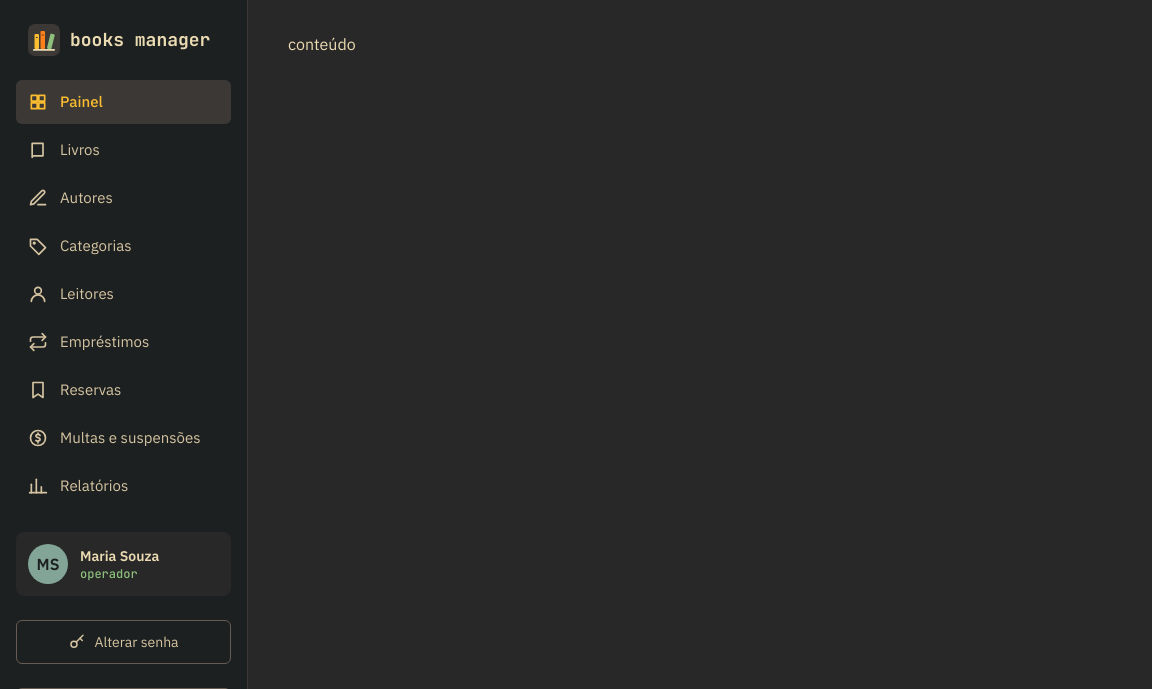
Test: layout da equipe: alterar a própria senha › fechar o diálogo volta à tela, sem sair da sessão
Click the button "Alterar senha". click: (124, 642)
box: [16,620,231,664]
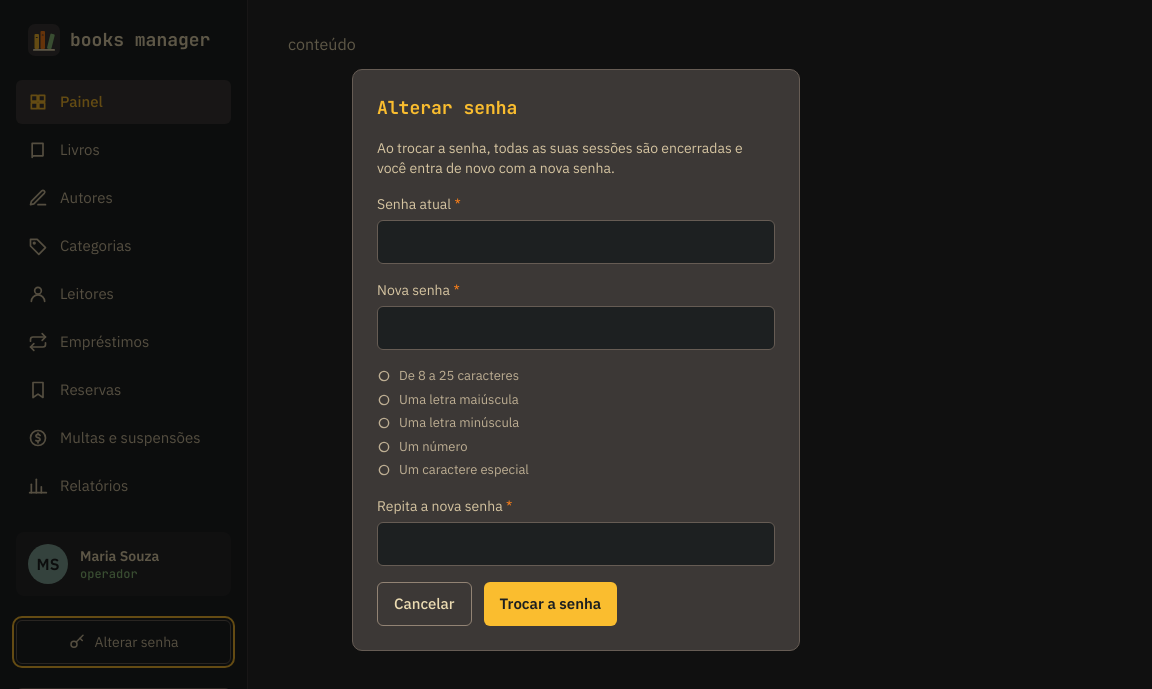
Click the button "Cancelar". click: (424, 604)
box: [377,582,472,626]
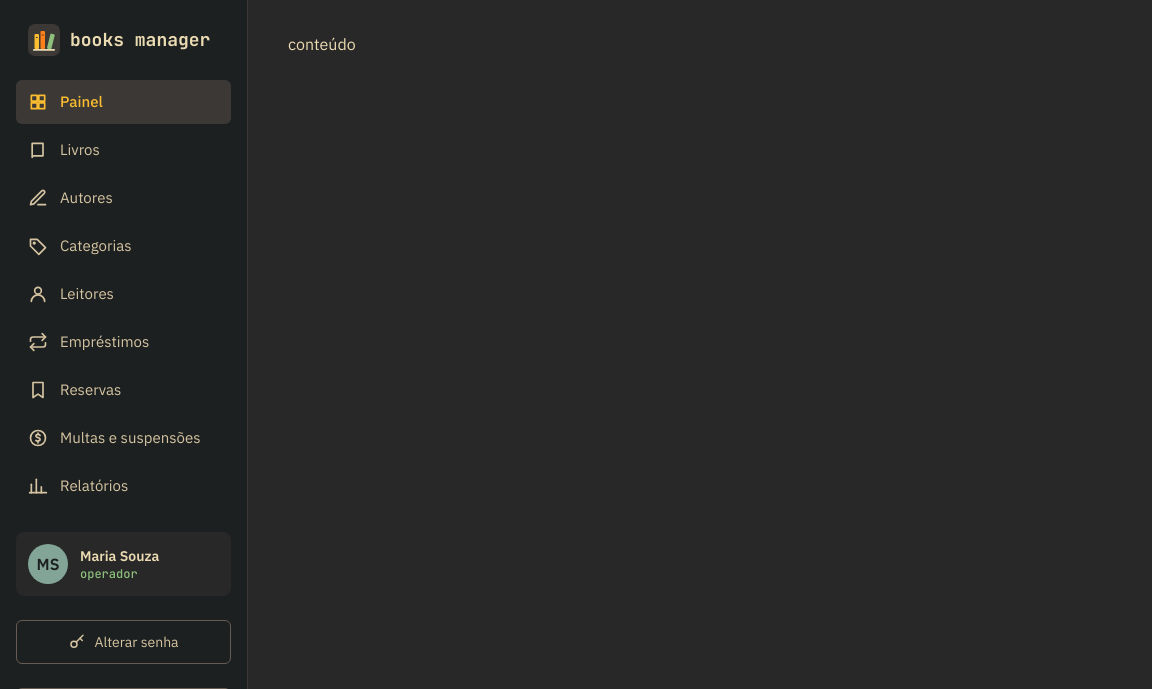
Result: the dialog is gone
